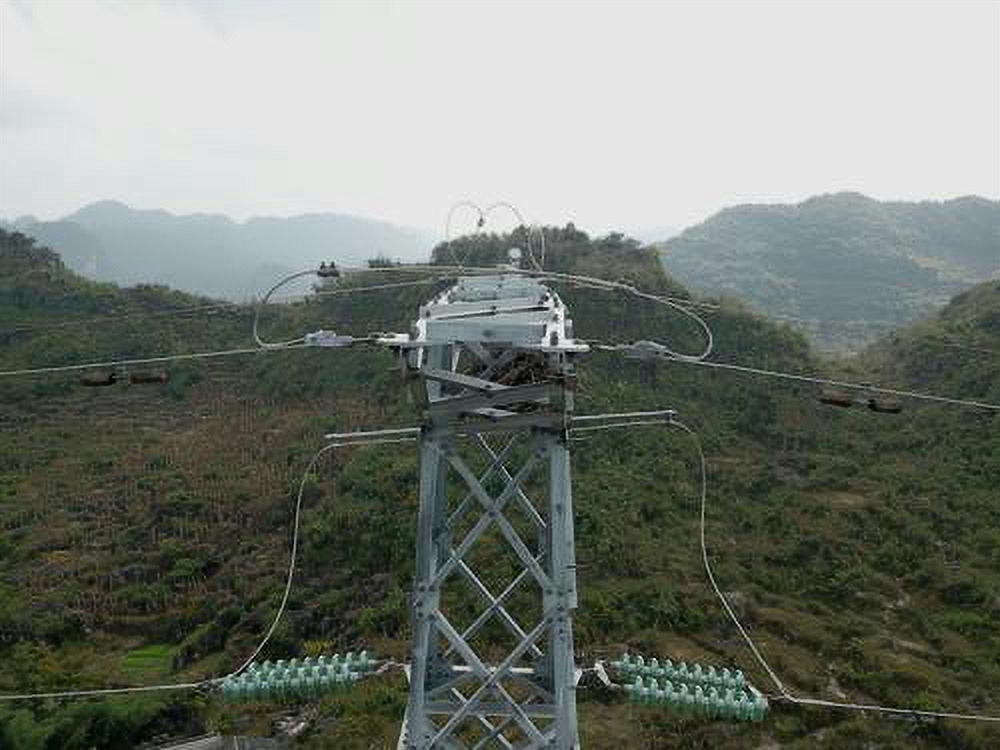insulator: (616, 648, 773, 727), (213, 645, 374, 708)
